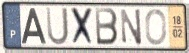A: (20, 7, 48, 46)
B: (94, 7, 120, 47)
N: (119, 8, 143, 47)
O: (145, 8, 168, 47)
U: (45, 5, 70, 46)
X: (70, 6, 96, 47)
